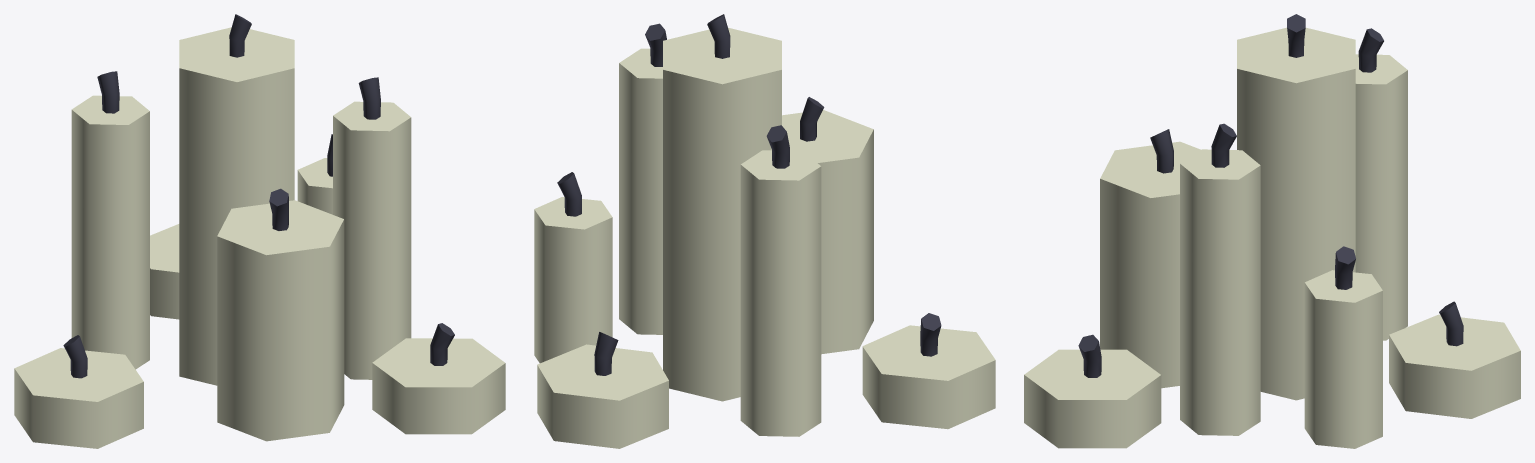
File: Candle_Bundle.glb
3 views of the same model, side by side, from view 1: azimuth 30°, elevation 25°; view 2: azimuth 150°, elevation 25°; view 3: azimuth 270°, elevation 25° (orthographic). The views are drawn at different scales.
Parts seen in each view (by area): view 1: Candle_Bundle; view 2: Candle_Bundle; view 3: Candle_Bundle.
Part boxes in pixels (box(x1,y1,x2,y2)): Candle_Bundle: box(14, 14, 505, 448); Candle_Bundle: box(534, 14, 995, 448); Candle_Bundle: box(1024, 14, 1520, 448).
Size of the model in its own units: 0.5877 by 0.501 by 0.6316.
Materials: 1 (1 with a texture image).
